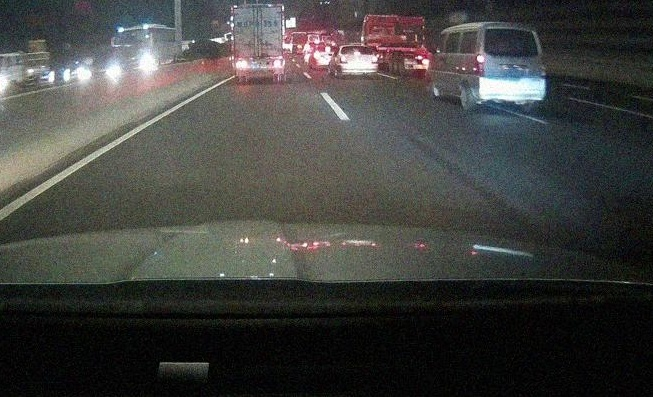L_light: (475, 54, 486, 75), (235, 60, 247, 68), (340, 56, 347, 63)
R_light: (541, 57, 548, 77), (273, 59, 285, 67), (372, 56, 378, 64)
T_light: (504, 28, 518, 32), (354, 51, 362, 55), (253, 5, 263, 7)
night-brake: (340, 44, 378, 77)
night-left: (473, 22, 548, 108)
night-no: (229, 3, 286, 84)
